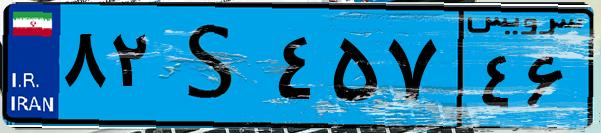2: (110, 28, 158, 98)
4: (270, 28, 330, 110), (475, 38, 525, 113)
5: (330, 28, 385, 110)
6: (525, 38, 570, 115)
7: (385, 28, 445, 110)
8: (57, 26, 110, 100)
S: (158, 12, 270, 120)
